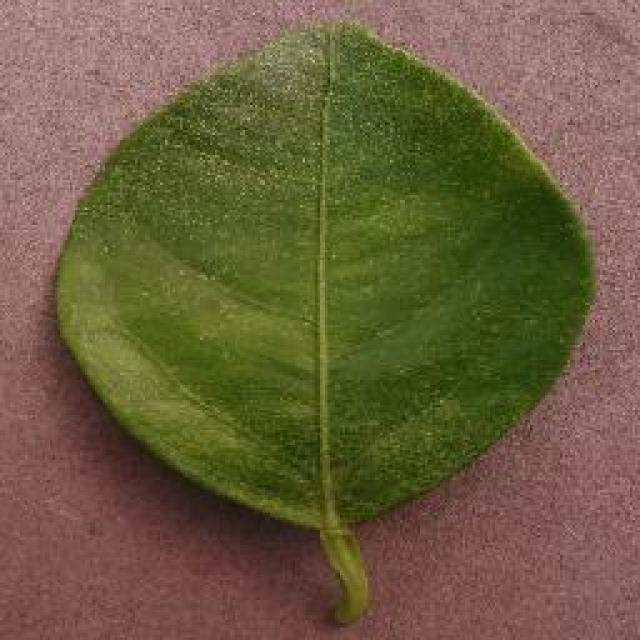Orange_Haunglongbing_Citrus_greening: (128, 79, 532, 471)
